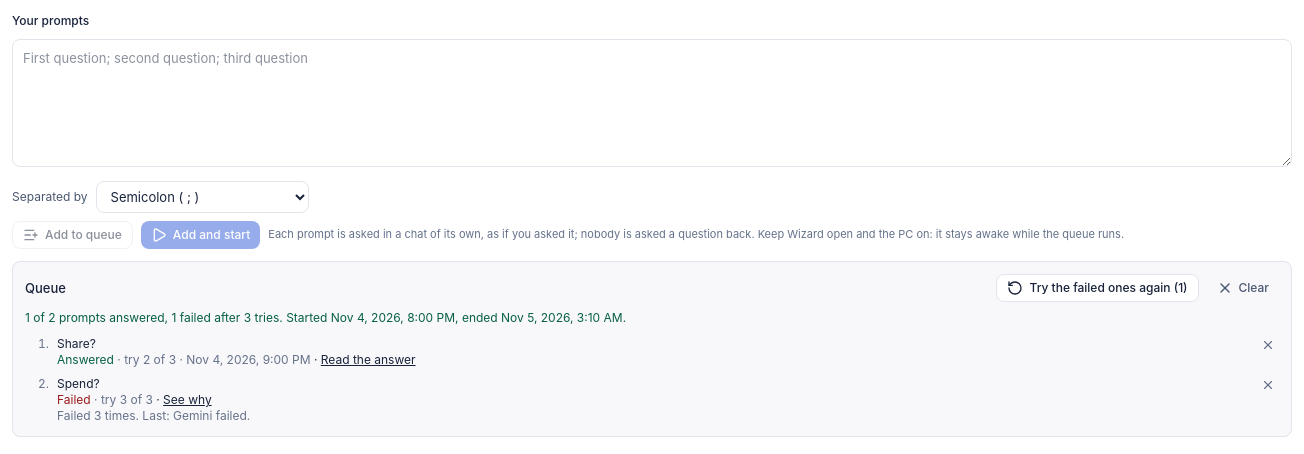
Settings → Prompt queue › shows the tries, how it ended, and puts the failed ones back
Check: the element with test id "prompts-status" shows "1 failed after 3 tries", box [25,310,283,325]
Check: the list item with test id "prompt-p1" shows "try 2 of 3", box [114,352,176,367]
Click the button with test id "prompts-retry-failed" at [1098, 288], box [996,274,1199,302]
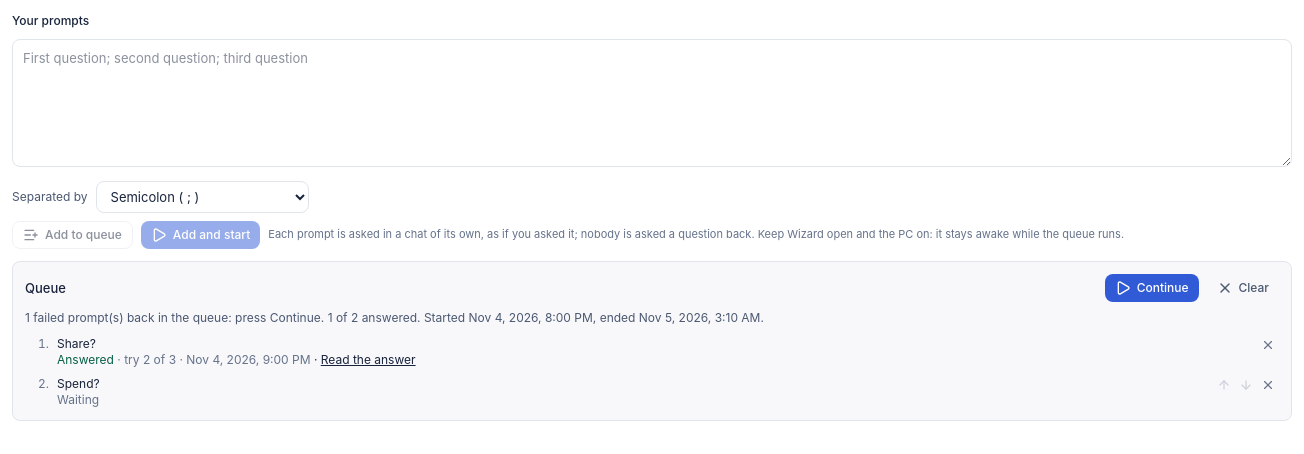
Check: the button with test id "prompts-continue" is shown, box [1105,274,1199,302]
